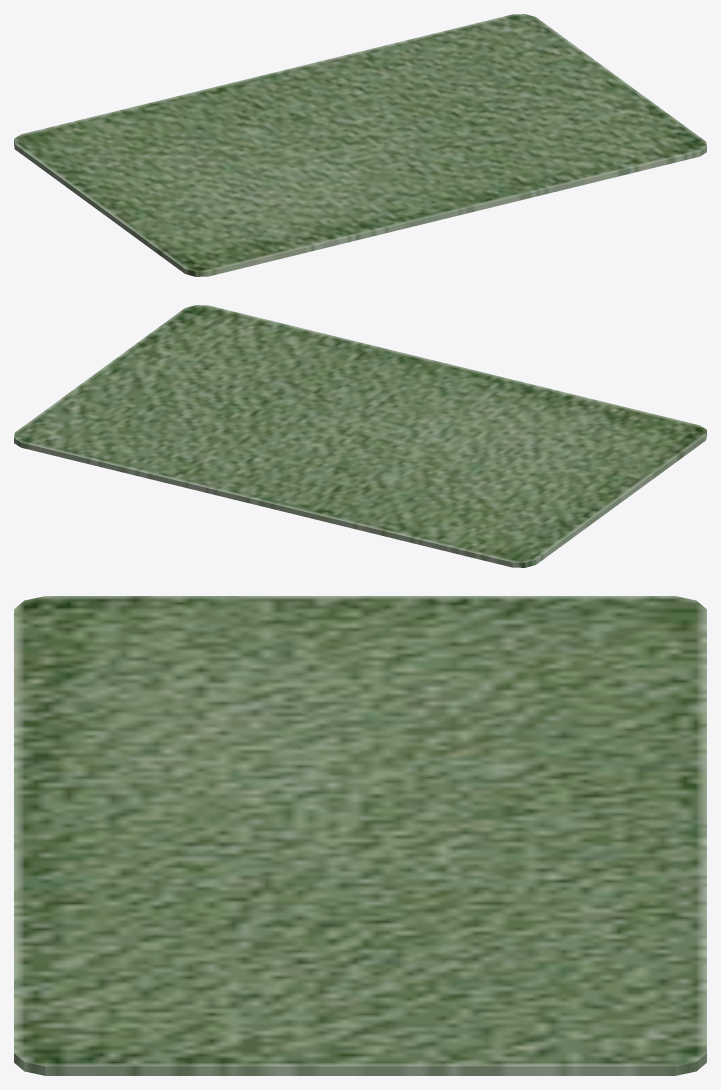
The model's file is bath_mat.fbx.
The picture shows the model from 3 angles, top to bottom: view 1: azimuth 30°, elevation 25°; view 2: azimuth 150°, elevation 25°; view 3: azimuth 270°, elevation 25°; orthographic projection. The views are drawn at different scales.
Parts seen in each view (by area): view 1: mesh_0; view 2: mesh_0; view 3: mesh_0.
Boxes of the visible parts, box(x1,y1,x2,y2) form: mesh_0: box(14, 14, 706, 276); mesh_0: box(14, 305, 706, 567); mesh_0: box(14, 596, 706, 1075).
Size of the model in its own units: 106 by 1 by 66.
Materials: 1 (1 with a texture image).
